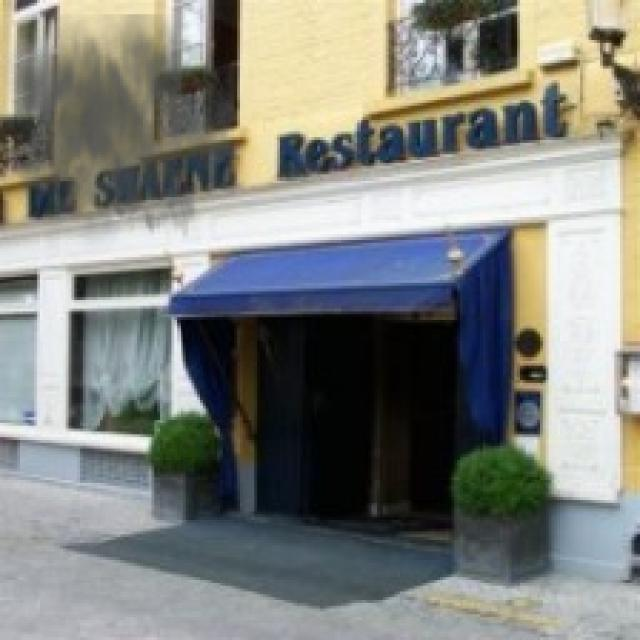Smoke: (0, 14, 235, 263)
